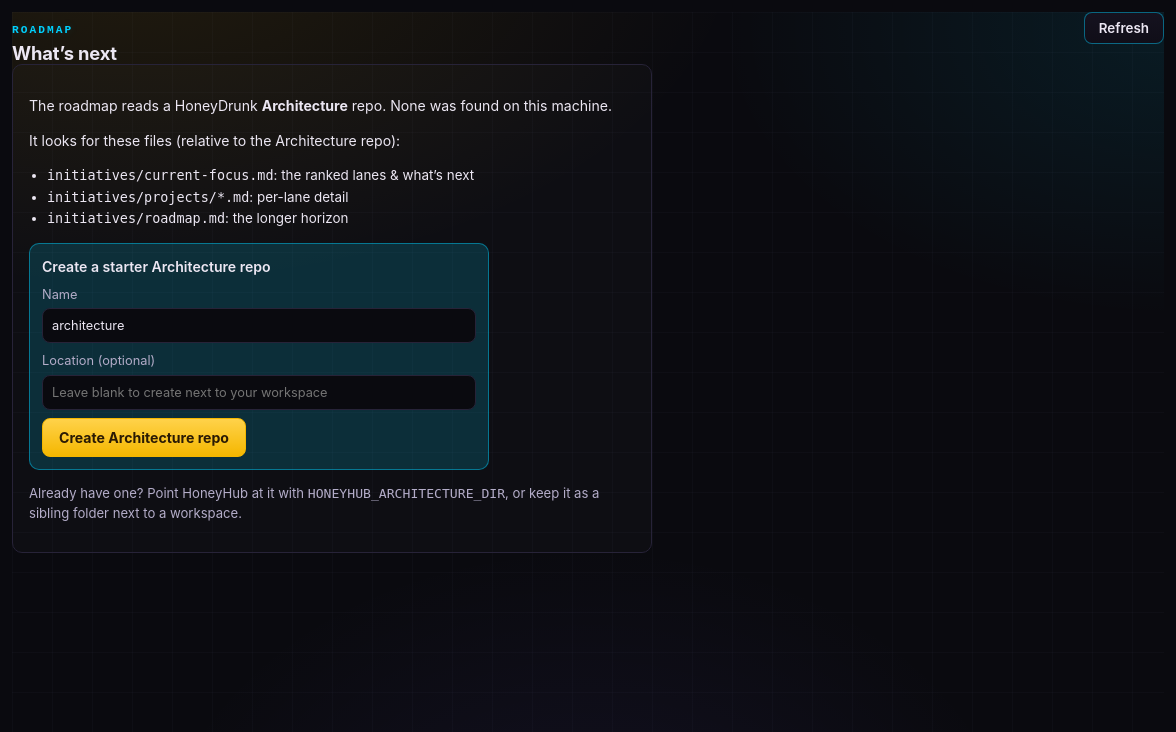
Test: PlanView › shows directions + create flow when no Architecture repo is found
The width and height of the screenshot is (1176, 732).
Expected: the text "reads a HoneyDrunk" is shown, [29,97,262,114]
Expected: the text "initiatives/current-focus.md" is shown, [47,168,274,184]
Note: Clicking Create scaffolds → the board renders the new lane.
Click the button "Create Architecture repo" at (144, 437), box [42,418,246,457]
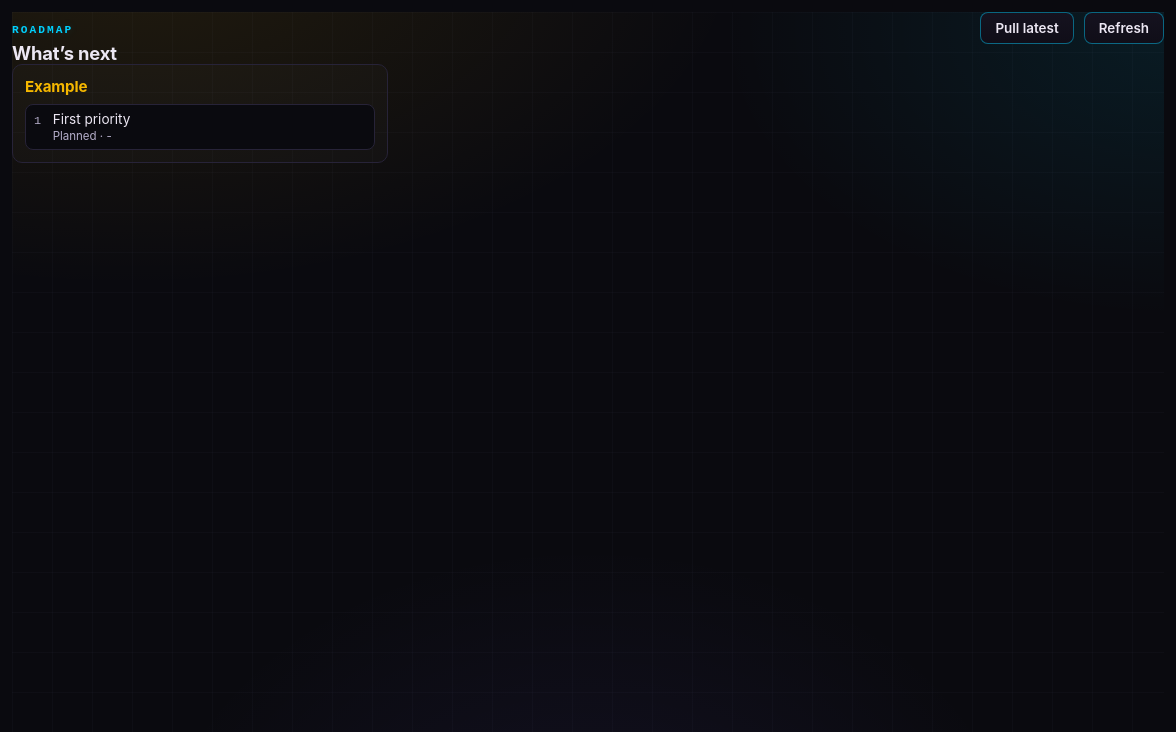
Expected: the heading "Example" is shown, [25,77,87,96]
Expected: the text "First priority" is shown, [53,111,130,127]
